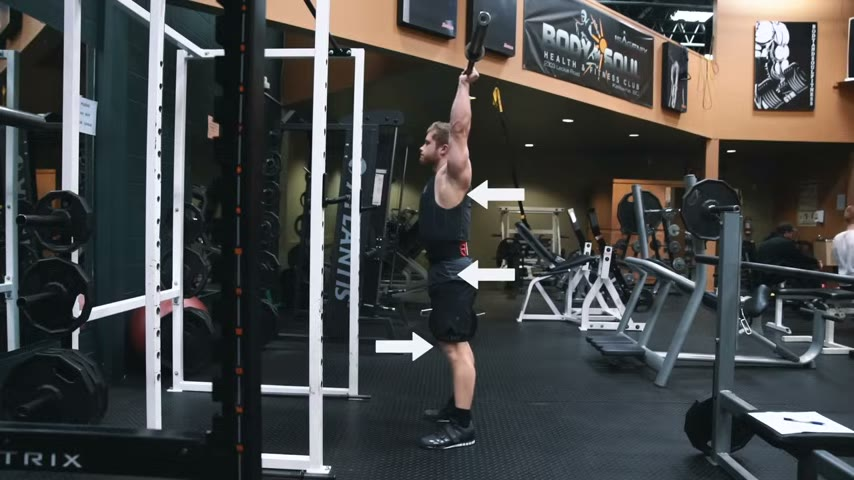barbell_plate_side: (123, 185, 227, 447)
